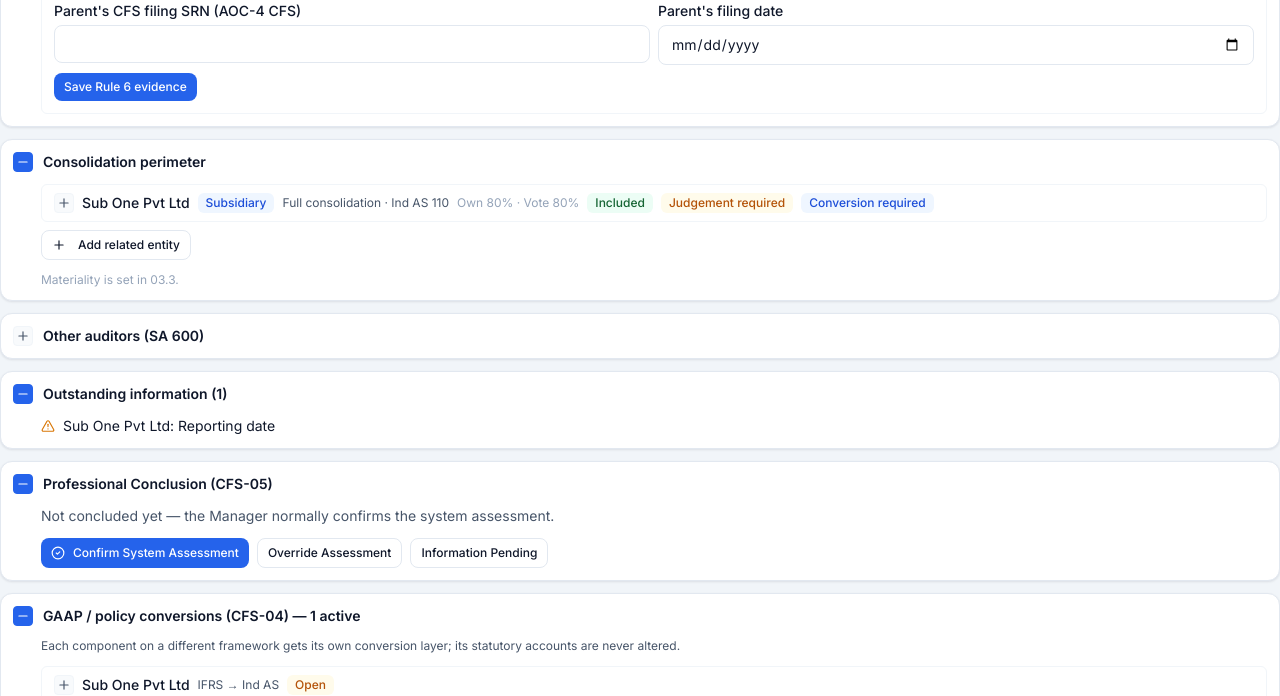
Test: 02.6 Consolidation workspace (spec §4) › mounts the Track B group-audit components in their slots
(page scrolled)
Click the button "Other auditors (SA 600)": click(124, 336) 13,326 -> 1267,346
(page scrolled)
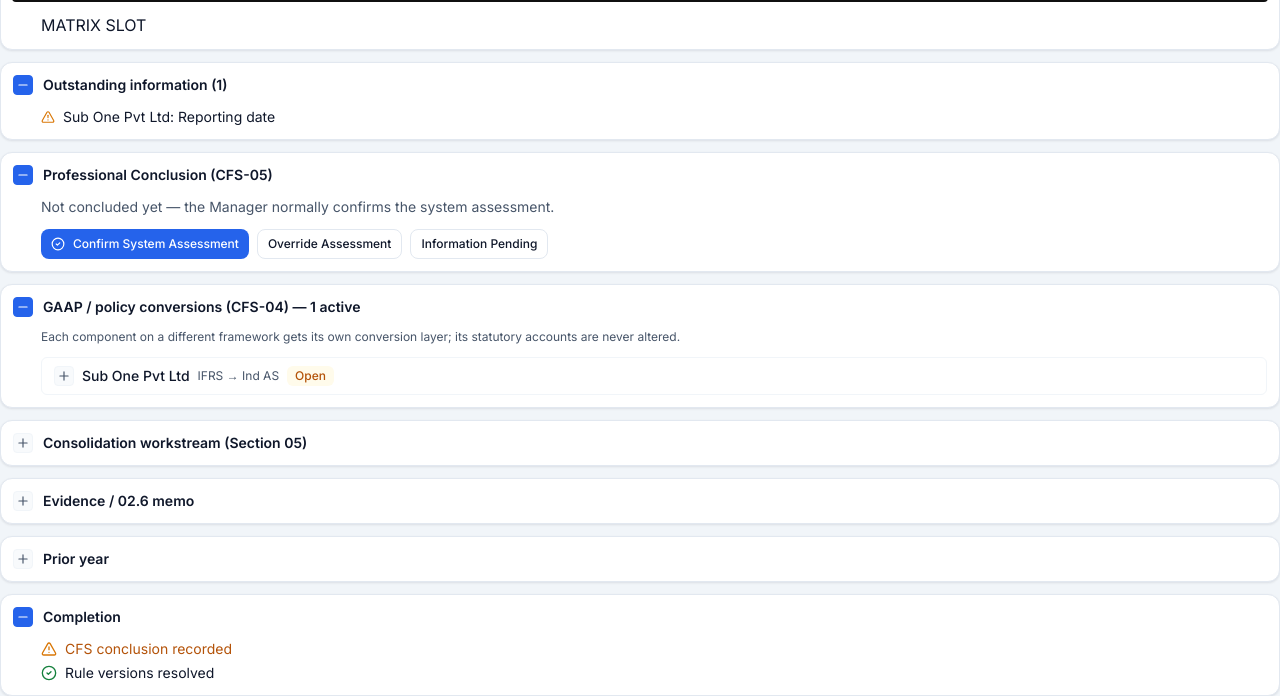
Check: the text "MATRIX SLOT" is shown, box 41,15 -> 146,35
Click the button "Consolidation workstream (Section 05)": click(175, 442) 13,433 -> 1267,453
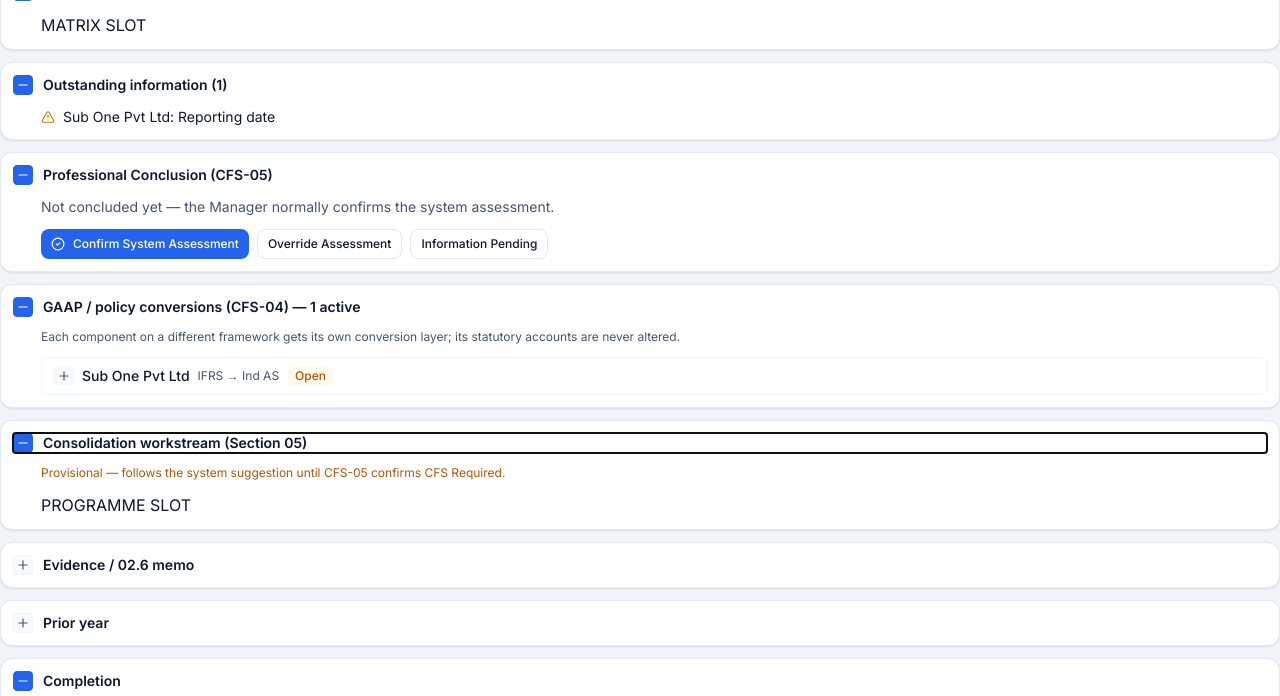
Check: the text "PROGRAMME SLOT" is shown, box 41,495 -> 191,515
